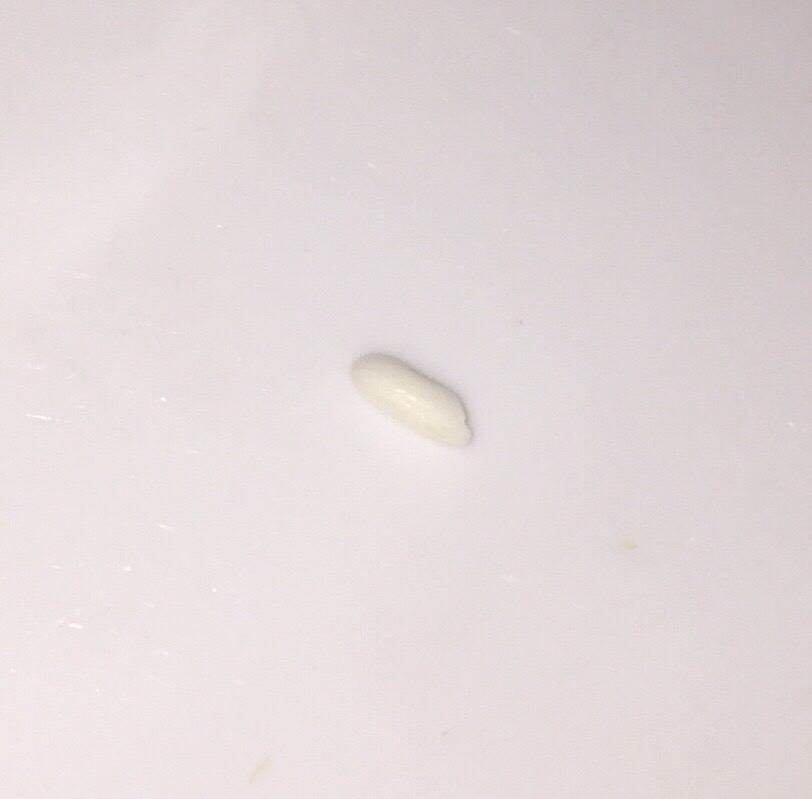Gao Nep Sap: (335, 341, 479, 453)
